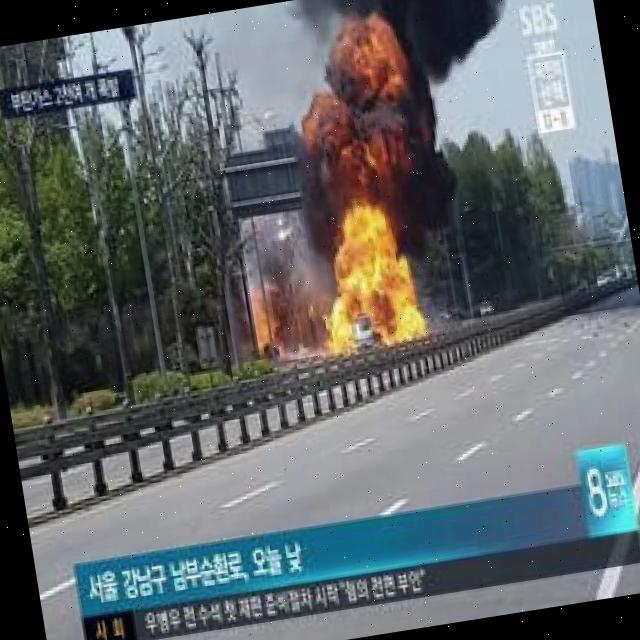fire: (316, 214, 422, 350), (248, 278, 286, 346)
